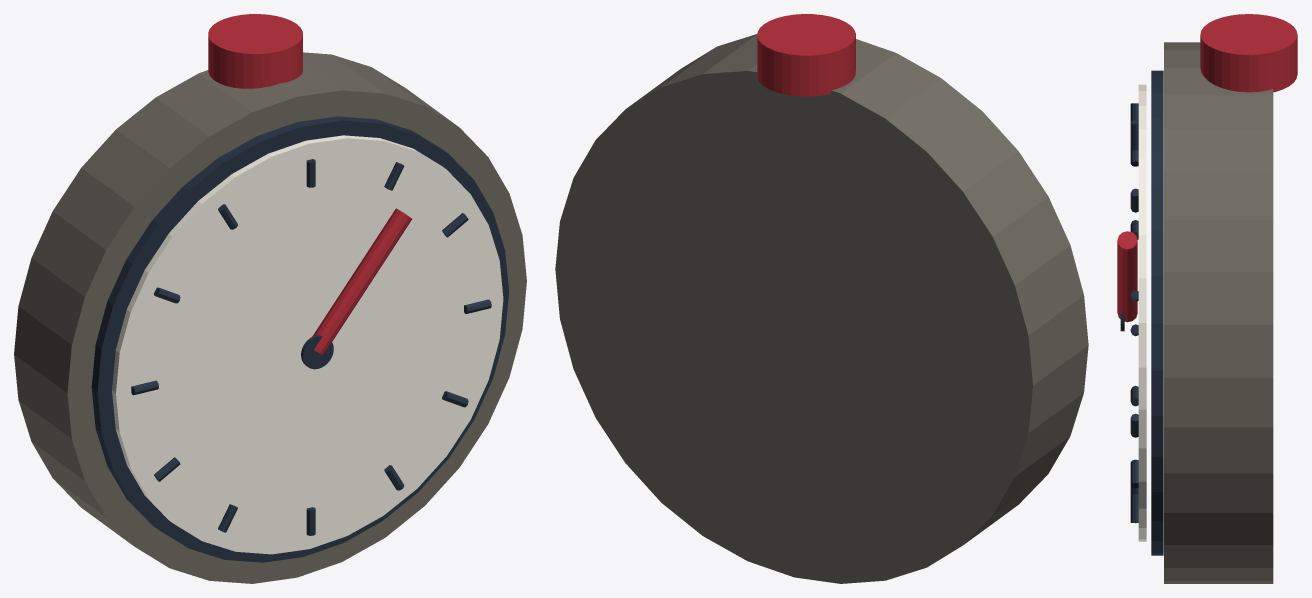
Rendered from timer.glb.
The picture shows the model from 3 angles, left to right: view 1: azimuth 30°, elevation 25°; view 2: azimuth 150°, elevation 25°; view 3: azimuth 270°, elevation 25°; orthographic projection. The views are drawn at different scales.
Parts seen in each view (by area): view 1: dial, housing, bezel, knob, timer hand0, hub; view 2: housing, knob; view 3: housing, knob, bezel, dial, timer hand0, tick 0, tick 5, tick 4.
Boxes of the visible parts, x1,y1,x2,y2 form: dial: (112,135,503,554); housing: (14,52,526,583); bezel: (91,116,508,562); knob: (208,14,302,88); timer hand0: (312,208,411,355); hub: (301,335,333,369); housing: (555,34,1088,583); knob: (757,14,855,96); housing: (1164,42,1273,583); knob: (1200,14,1297,92); bezel: (1151,70,1163,555); dial: (1138,84,1146,541); timer hand0: (1117,231,1137,322); tick 0: (1130,120,1138,150); tick 5: (1130,494,1138,523); tick 4: (1130,459,1138,488).
Size of the model in its own units: 1.34 by 1.43 by 0.445.
